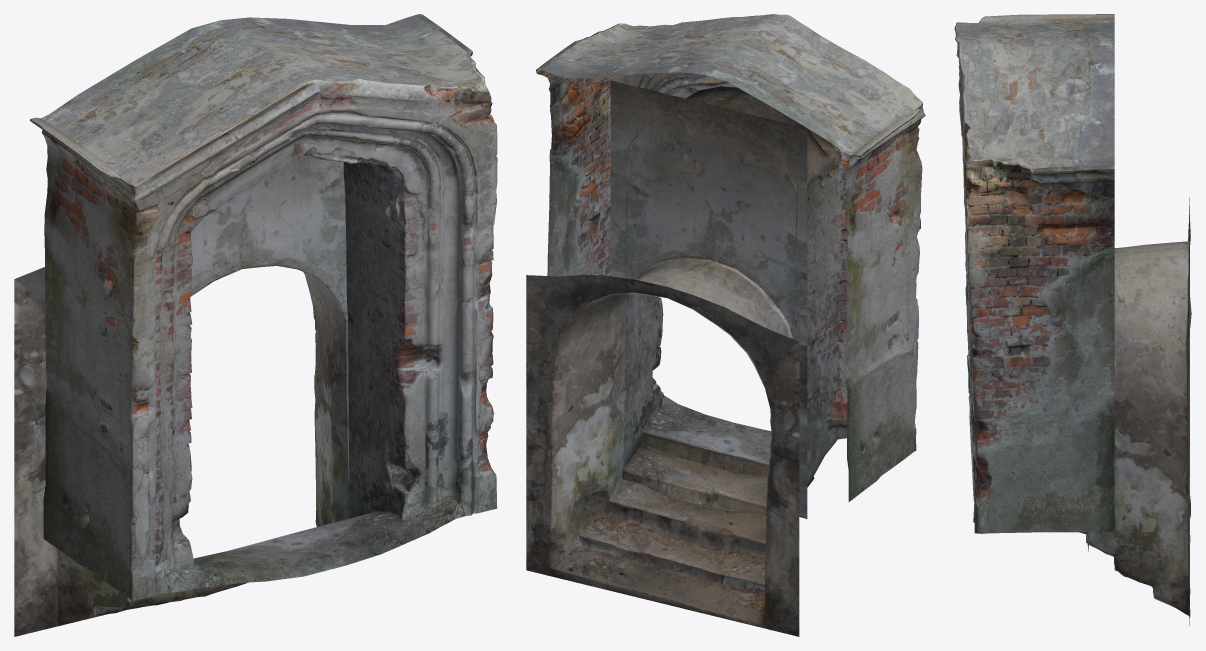
The model's file is SM_CryptEntrance_01_04.fbx.
The picture shows the model from 3 angles, left to right: view 1: azimuth 30°, elevation 25°; view 2: azimuth 150°, elevation 25°; view 3: azimuth 270°, elevation 25°; orthographic projection. The views are drawn at different scales.
Visible parts, largest first — view 1: sm_CryptEntrance_01_04_LOD0; view 2: sm_CryptEntrance_01_04_LOD0; view 3: sm_CryptEntrance_01_04_LOD0.
Boxes of the visible parts, x1,y1,x2,y2 form: sm_CryptEntrance_01_04_LOD0: (14, 14, 497, 636); sm_CryptEntrance_01_04_LOD0: (526, 14, 925, 636); sm_CryptEntrance_01_04_LOD0: (954, 14, 1191, 625).
Size of the model in its own units: 183 by 298 by 445.
